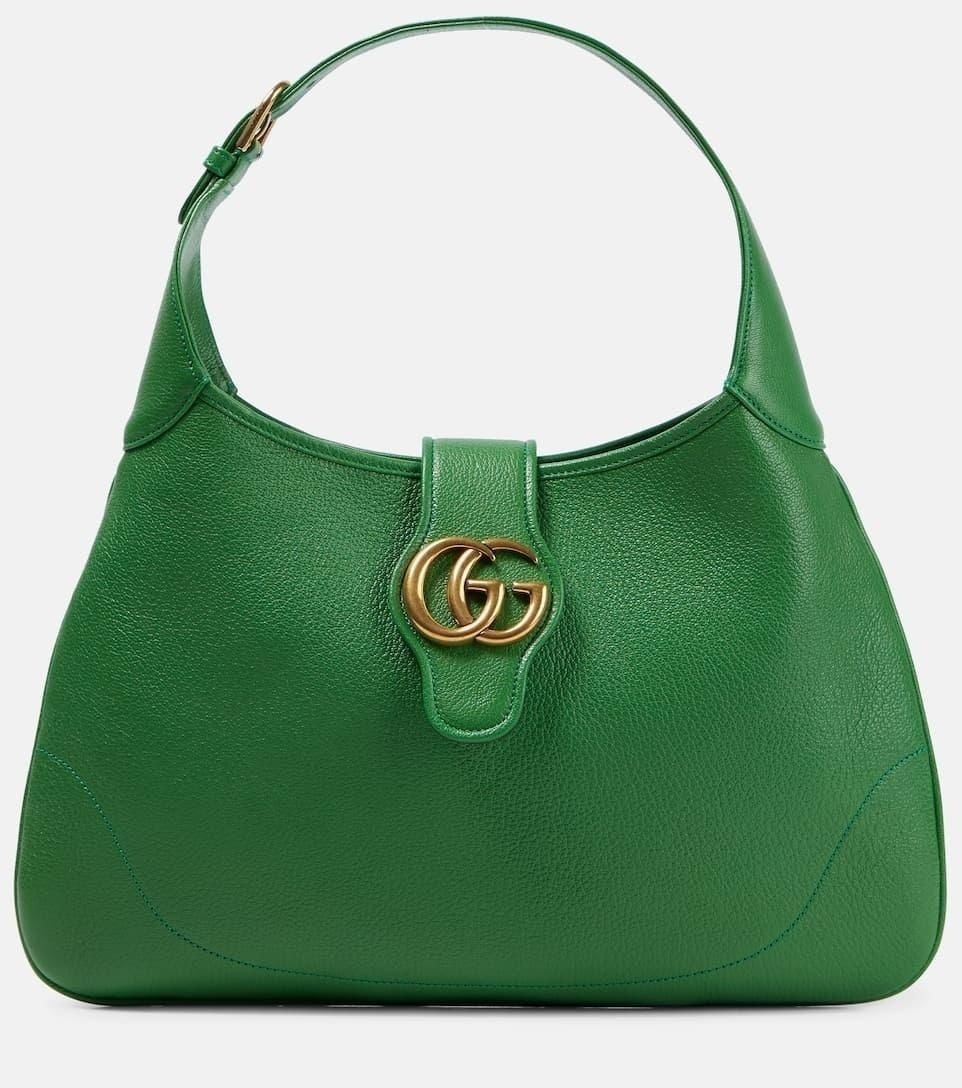GUCCI: (401, 535, 549, 647)
